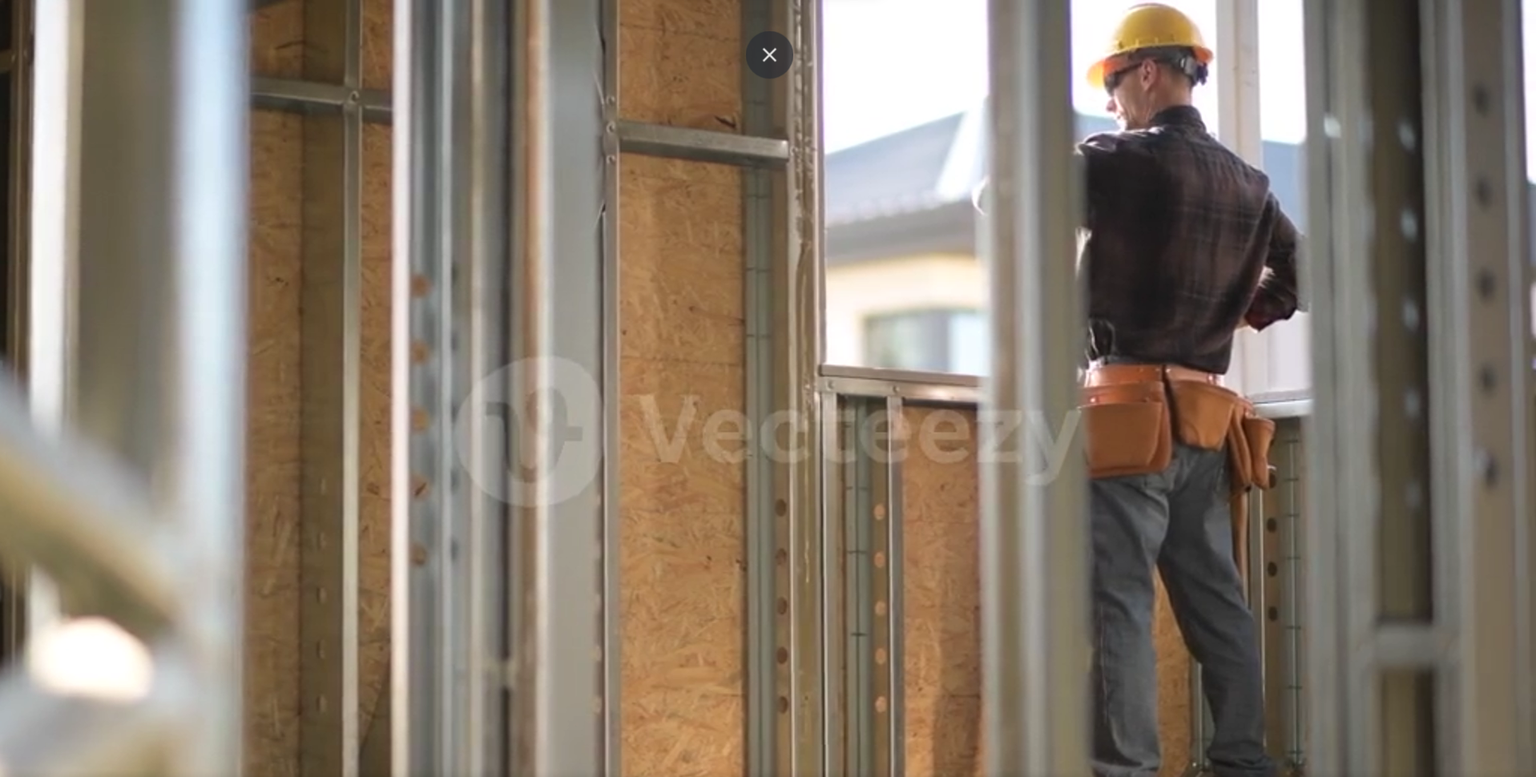safety_helmet: (1085, 2, 1214, 89)
